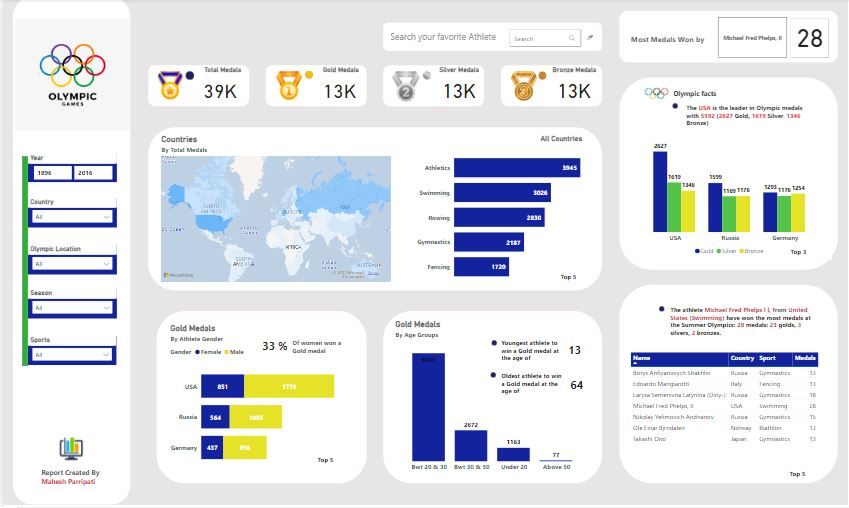

What the dashboard file says about the page in this screenshot:
{"tool":"powerbi","page":{"name":"Page 1","canvas":[1834,1103],"ordinal":0},"visuals":[{"type":"card","title":"Gold Medals","fields":{"Values":["All Measures.Gold Medals"]},"box":[682.1,146.3,94,85.1],"z":0},{"type":"card","title":"Silver Medals","fields":{"Values":["All Measures.Silver Medals"]},"box":[938.2,146.1,98.7,85.5],"z":1000},{"type":"card","title":"Bronze Medals","fields":{"Values":["All Measures.Bronze Medals"]},"box":[1184.2,146.1,107.9,85.5],"z":2000},{"type":"textbox","box":[833.3,63.3,255,45],"z":3000},{"type":"textFilter25A4896A83E0487089E2B90C9AE57C8A","fields":{"field":["athlete_events.Name"]},"box":[1092.1,60.5,203.9,50],"z":4000},{"type":"card","title":"Total Medals","fields":{"Values":["All Measures.Total Medals"]},"box":[418.8,146.2,101.2,85],"z":5000},{"type":"image","box":[386.2,151.2,32.5,27.5],"z":6000},{"type":"image","box":[642.5,140,41.2,48.8],"z":7000},{"type":"image","box":[902.5,151.2,30,27.5],"z":8000},{"type":"image","box":[1152.5,151.2,31.2,27.5],"z":9000},{"type":"image","box":[18.8,37.5,257.5,255],"z":10000},{"type":"slicer","title":"Year","fields":{"Values":["athlete_events.Year"]},"box":[51.2,337.5,192.5,61.2],"z":11000},{"type":"slicer","title":"Country","fields":{"Values":["athlete_events.Country"]},"box":[51.2,432.5,192.5,63.8],"z":12000},{"type":"slicer","title":"Olympic Location","fields":{"Values":["athlete_events.City"]},"box":[51.2,535,192.5,63.8],"z":13000},{"type":"slicer","title":"Season","fields":{"Values":["athlete_events.Season"]},"box":[51.2,630,192.5,63.8],"z":14000},{"type":"slicer","title":"Sports","fields":{"Values":["athlete_events.Country"]},"box":[51.3,731.6,192.1,63.2],"z":15000},{"type":"shape","box":[39.1,340.9,13,456],"z":16000},{"type":"barChart","title":"All Countries","fields":{"Category":["athlete_events.Sport"],"Y":["All Measures.Total Medals"]},"box":[891,292.5,370.1,337.3],"z":17000},{"type":"barChart","title":"Gold Medals","fields":{"Y":["All Measures.Gold Medals"],"Series":["athlete_events.Gender"],"Category":["athlete_events.Country"]},"box":[355.2,704.5,407.5,329.9],"z":18000},{"type":"columnChart","title":"Gold Medals ","fields":{"Category":["athlete_events.Age Groups"],"Y":["All Measures.Gold Medals"]},"box":[844.8,694,434.3,340.3],"z":19000},{"type":"filledMap","title":" Countries","fields":{"Category":["athlete_events.Country"]},"box":[336.5,293.1,508.1,325.7],"z":20000},{"type":"clusteredColumnChart","fields":{"Category":["athlete_events.Country"],"Y":["All Measures.Gold Medals","All Measures.Silver Medals","All Measures.Bronze Medals"]},"box":[1356.4,293.6,439.7,273.1],"z":21000},{"type":"textbox","box":[1342.5,37.9,198.9,95.4],"z":22000},{"type":"tableEx","fields":{"Values":["athlete_events.Name","athlete_events.Country","athlete_events.Sport","All Measures.Total Medals"]},"box":[1355.1,762.8,441,253.8],"z":23000},{"type":"slicer","title":"Most Medals Won","fields":{"Values":["athlete_events.Name"]},"box":[1524.1,33.3,200,102.3],"z":24000},{"type":"cardVisual","fields":{"Data":["All Measures.Total Medals"]},"box":[1702.3,36.8,94.3,96.6],"z":25000},{"type":"textbox","box":[1442.5,188.5,116.1,33.3],"z":26000},{"type":"image","box":[1356.4,182.1,119.2,44.9],"z":27000},{"type":"textbox","box":[1475.6,221.8,274.4,94.9],"z":28000},{"type":"image","box":[1442.3,221.8,30.8,20.5],"z":29000},{"type":"textbox","box":[1673.1,534.6,101.3,26.9],"z":30000},{"type":"textbox","box":[1692.3,1016.7,62.8,30.8],"z":31000},{"type":"textbox","box":[1193.6,588.5,62.8,30.8],"z":32000},{"type":"textbox","box":[666.7,985.9,62.8,30.8],"z":33000},{"type":"textbox","box":[1441.8,659.7,332.8,104.5],"z":34000},{"type":"image","box":[1416.4,661.2,25.4,20.9],"z":34001},{"type":"textbox","box":[555.1,732.1,74.4,47.4],"z":34002},{"type":"textbox","box":[620.5,732.1,142.3,47.4],"z":34003},{"type":"textbox","box":[1075.6,732.1,141,65.4],"z":34004},{"type":"textbox","box":[1219.2,741,42.3,47.4],"z":34005},{"type":"textbox","box":[1075.6,803.8,141,65.4],"z":34006},{"type":"textbox","box":[1225.6,816.7,53.8,47.4],"z":34007},{"type":"image","box":[1050,735.9,25.6,20.5],"z":34008},{"type":"image","box":[1048.7,806.4,25.6,20.5],"z":34009},{"type":"textbox","box":[76.9,1011.5,139.7,70.5],"z":34010},{"type":"image","box":[76.9,944.9,139.7,66.7],"z":34011},{"type":"image","box":[570.8,152.8,95.8,72.2],"z":34012},{"type":"image","box":[833.3,152.8,77.8,76.4],"z":34013},{"type":"image","box":[1087.5,151.4,80.6,73.6],"z":34014},{"type":"image","box":[319.4,152.8,83.3,70.8],"z":34015}]}

Visuals, with their boxes in screenshot pixels (x1, y1, x2, y2), scaled from the page's 1834x1103 canvas onto the 849x508 screenshot:
"Gold Medals" card: 316/67/359/107
"Silver Medals" card: 434/67/480/107
"Bronze Medals" card: 548/67/598/107
textbox: 386/29/504/50
textFilter25A4896A83E0487089E2B90C9AE57C8A - athlete_events.Name: 506/28/600/51
"Total Medals" card: 194/67/241/106
image: 179/70/194/82
image: 297/64/317/87
image: 418/70/432/82
image: 534/70/548/82
image: 9/17/128/135
"Year" slicer: 24/155/113/184
"Country" slicer: 24/199/113/229
"Olympic Location" slicer: 24/246/113/276
"Season" slicer: 24/290/113/320
"Sports" slicer: 24/337/113/366
shape: 18/157/24/367
"All Countries" barChart: 412/135/584/290
"Gold Medals" barChart: 164/324/353/476
"Gold Medals " columnChart: 391/320/592/476
" Countries" filledMap: 156/135/391/285
clusteredColumnChart - athlete_events.Country x All Measures.Gold Medals: 628/135/831/261
textbox: 621/17/714/61
tableEx - athlete_events.Name x athlete_events.Country: 627/351/831/468
"Most Medals Won" slicer: 706/15/798/62
cardVisual - All Measures.Total Medals: 788/17/832/61
textbox: 668/87/722/102
image: 628/84/683/105
textbox: 683/102/810/146
image: 668/102/682/112
textbox: 775/246/821/259
textbox: 783/468/812/482
textbox: 553/271/582/285
textbox: 309/454/338/468
textbox: 667/304/822/352
image: 656/305/667/314
textbox: 257/337/291/359
textbox: 287/337/353/359
textbox: 498/337/563/367
textbox: 564/341/584/363
textbox: 498/370/563/400
textbox: 567/376/592/398
image: 486/339/498/348
image: 485/371/497/381
textbox: 36/466/100/498
image: 36/435/100/466
image: 264/70/309/104
image: 386/70/422/106
image: 503/70/541/104
image: 148/70/186/103
